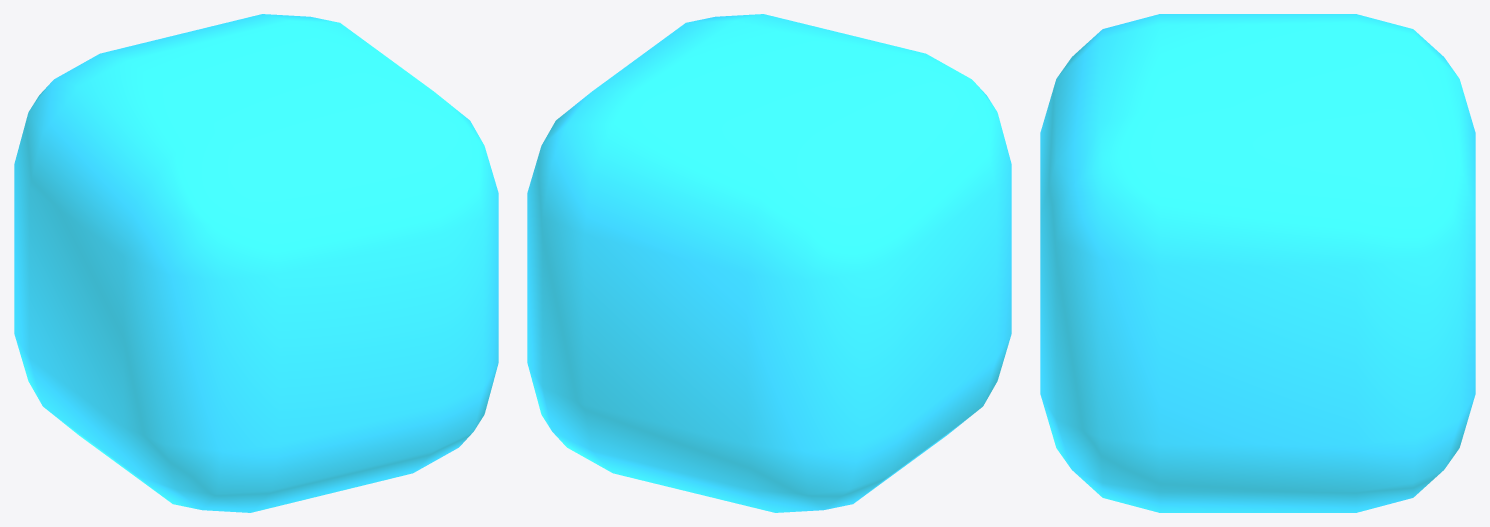
The model's file is ItemCase.fbx.
3 views of the same model, side by side, from view 1: azimuth 30°, elevation 25°; view 2: azimuth 150°, elevation 25°; view 3: azimuth 270°, elevation 25° (orthographic). The views are drawn at different scales.
Parts seen in each view (by area): view 1: Cube; view 2: Cube; view 3: Cube.
Part boxes in pixels (left/top/right/bottom): Cube: left=14, top=14, right=498, bottom=512; Cube: left=527, top=14, right=1011, bottom=512; Cube: left=1040, top=14, right=1475, bottom=512.
Bounding box in the file's own units: 200 × 200 × 200.
